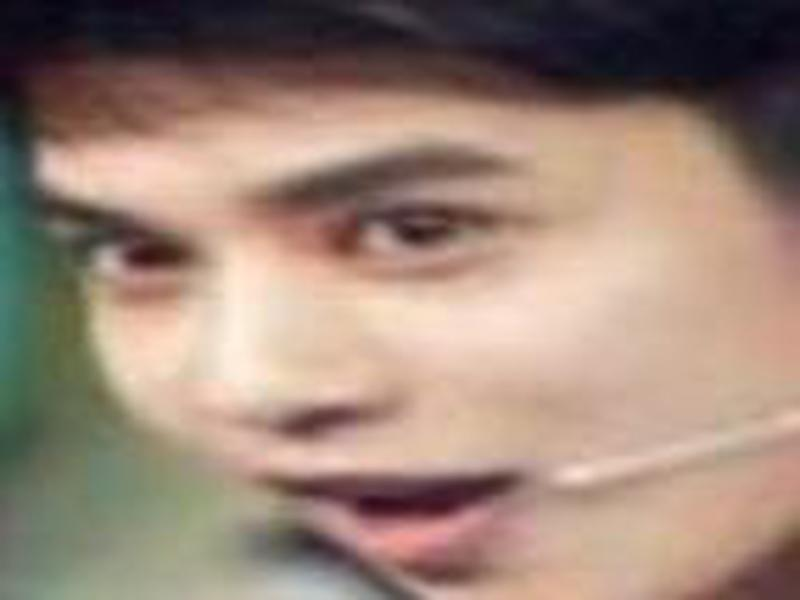without_mask: (29, 84, 800, 591)
